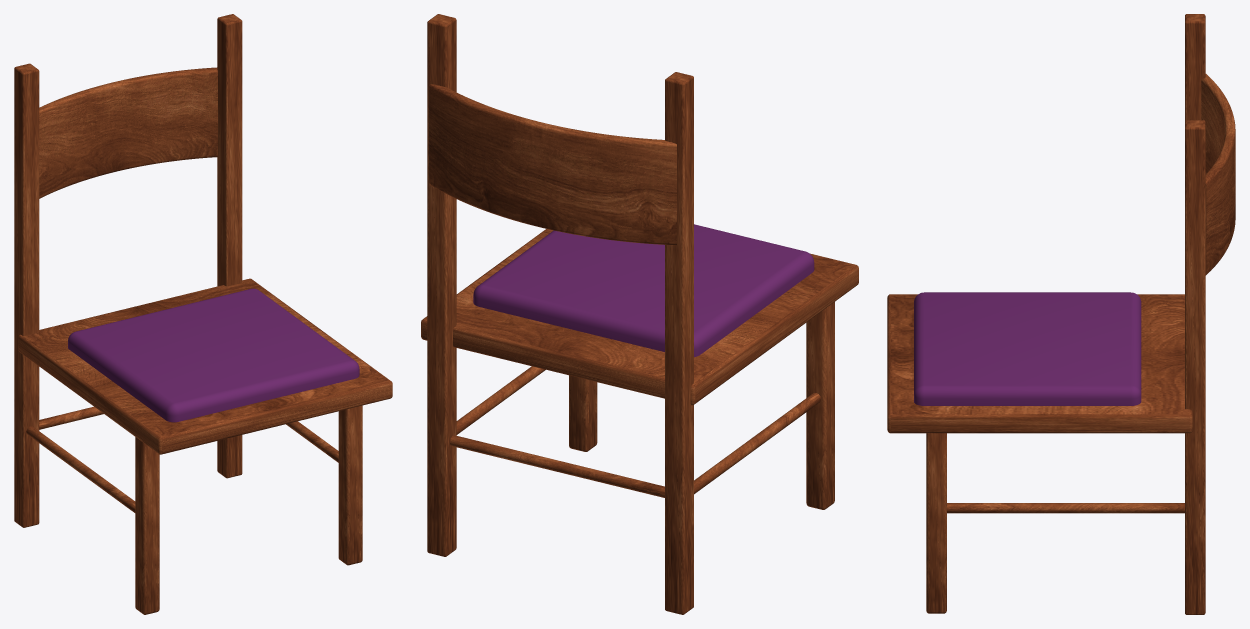
File: stuhl.fbx
3 renders of one model, left to right at view 1: azimuth 30°, elevation 25°; view 2: azimuth 150°, elevation 25°; view 3: azimuth 270°, elevation 25°, orthographic. The views are drawn at different scales.
Parts seen in each view (by area): view 1: Sitzkissen, Röhre, Sitzfläche, Stuhlbein_hinten_2, Stuhlbein_hinten, Stuhlbein_vorne_2, Stuhlbein_vorne, Strebe_2, Strebe_hinten, Strebe; view 2: Röhre, Sitzkissen, Sitzfläche, Stuhlbein_hinten_2, Stuhlbein_hinten, Stuhlbein_vorne_2, Strebe_hinten, Stuhlbein_vorne, Strebe_2, Strebe; view 3: Sitzkissen, Sitzfläche, Stuhlbein_hinten, Röhre, Stuhlbein_vorne, Strebe, Stuhlbein_hinten_2.
Part boxes in pixels (x1,y1,x2,y2): Sitzkissen: [68, 288, 359, 422]; Röhre: [39, 67, 217, 198]; Sitzfläche: [18, 278, 392, 454]; Stuhlbein_hinten_2: [14, 63, 39, 527]; Stuhlbein_hinten: [217, 14, 242, 478]; Stuhlbein_vorne_2: [135, 437, 159, 614]; Stuhlbein_vorne: [338, 405, 362, 565]; Strebe_2: [26, 426, 135, 512]; Strebe_hinten: [39, 406, 103, 429]; Strebe: [286, 421, 338, 462]; Röhre: [429, 84, 676, 245]; Sitzkissen: [473, 224, 814, 357]; Sitzfläche: [421, 229, 858, 405]; Stuhlbein_hinten_2: [665, 72, 693, 614]; Stuhlbein_hinten: [427, 14, 456, 556]; Stuhlbein_vorne_2: [806, 302, 834, 509]; Strebe_hinten: [450, 435, 664, 497]; Stuhlbein_vorne: [569, 375, 597, 451]; Strebe_2: [694, 393, 820, 494]; Strebe: [456, 366, 545, 434]; Sitzkissen: [914, 292, 1141, 405]; Sitzfläche: [887, 294, 1192, 433]; Stuhlbein_hinten: [1185, 120, 1205, 614]; Röhre: [1201, 74, 1235, 275]; Stuhlbein_vorne: [926, 433, 946, 613]; Strebe: [947, 503, 1184, 513]; Stuhlbein_hinten_2: [1185, 14, 1205, 120].
Bounding box in the file's own units: 280 × 520 × 336.
Materials: 2 (1 with a texture image).
